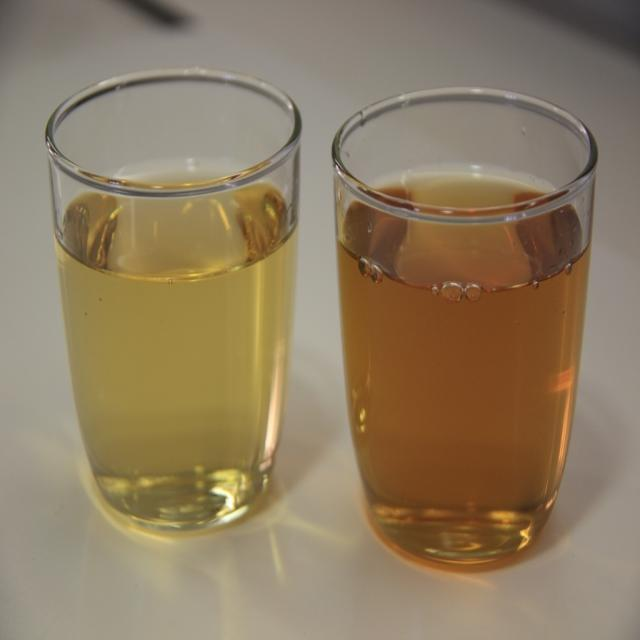Juice: (54, 160, 299, 532)
